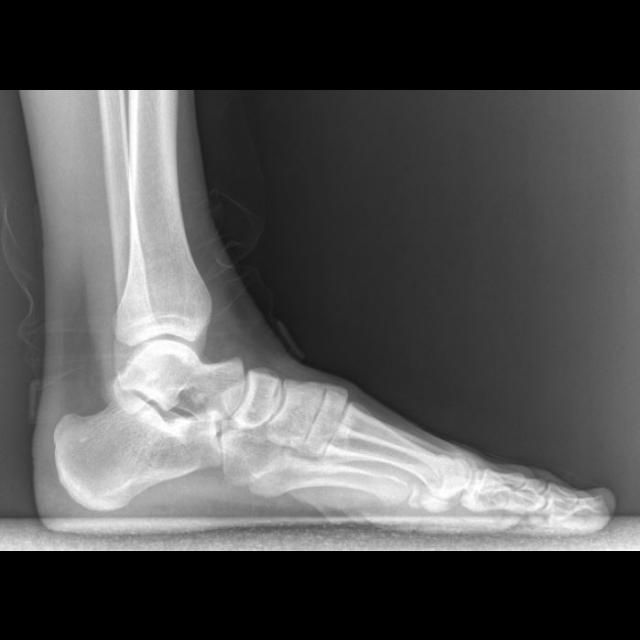a: (54, 391, 223, 511)
b: (229, 367, 280, 428)
c: (322, 400, 471, 498)
